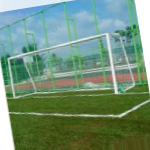goals: (7, 30, 137, 99)
